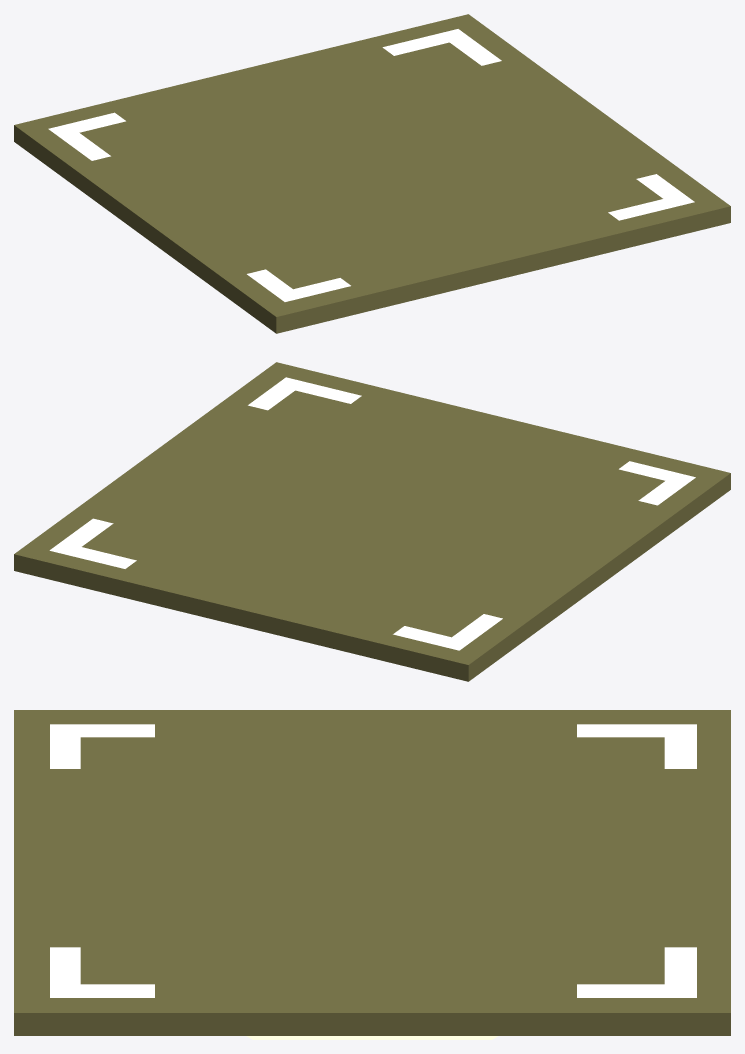
The model's file is disApearPlatform.fbx.
3 views of the same model, one above another, from view 1: azimuth 30°, elevation 25°; view 2: azimuth 150°, elevation 25°; view 3: azimuth 270°, elevation 25° (orthographic). The views are drawn at different scales.
Visible parts, largest first — view 1: Cube; view 2: Cube; view 3: Cube, Cube.001.
Part boxes in pixels (x1,y1,x2,y2): Cube: (14,14,730,333); Cube: (14,362,730,681); Cube: (14,710,730,1035); Cube.001: (246,1036,498,1039).
Bounding box in the file's own units: 600 × 118 × 600.
